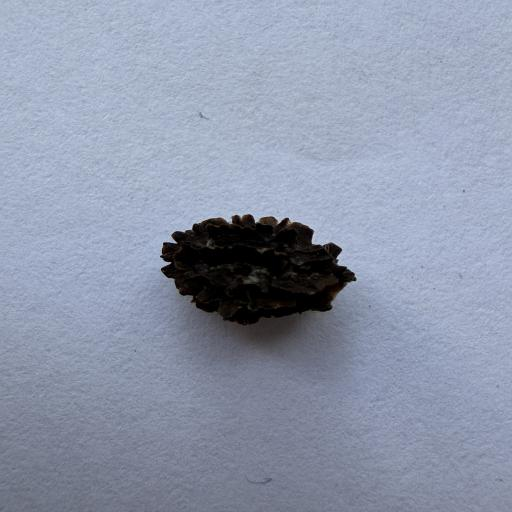papaya_seed: (140, 187, 376, 341)
